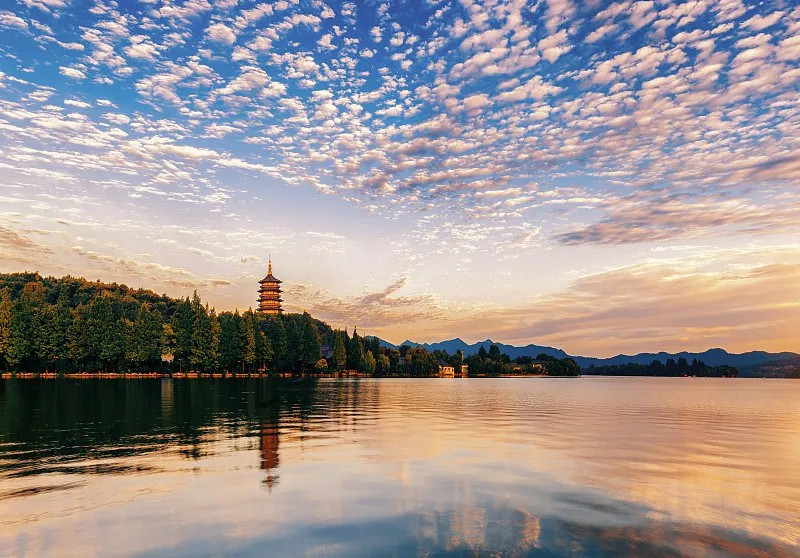Leifeng: (256, 252, 284, 318)
